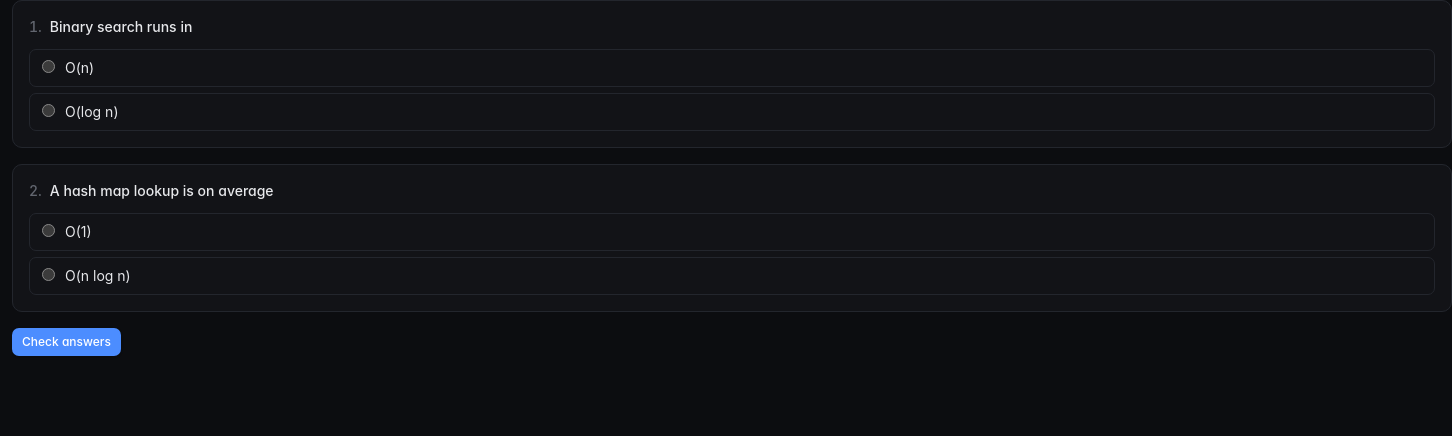
Test: Quiz › sends the selected options to the server and shows its grading
Click the radio button labelled "O(log n)" at (48, 110), box top-left (42, 104), bottom-right (55, 117)
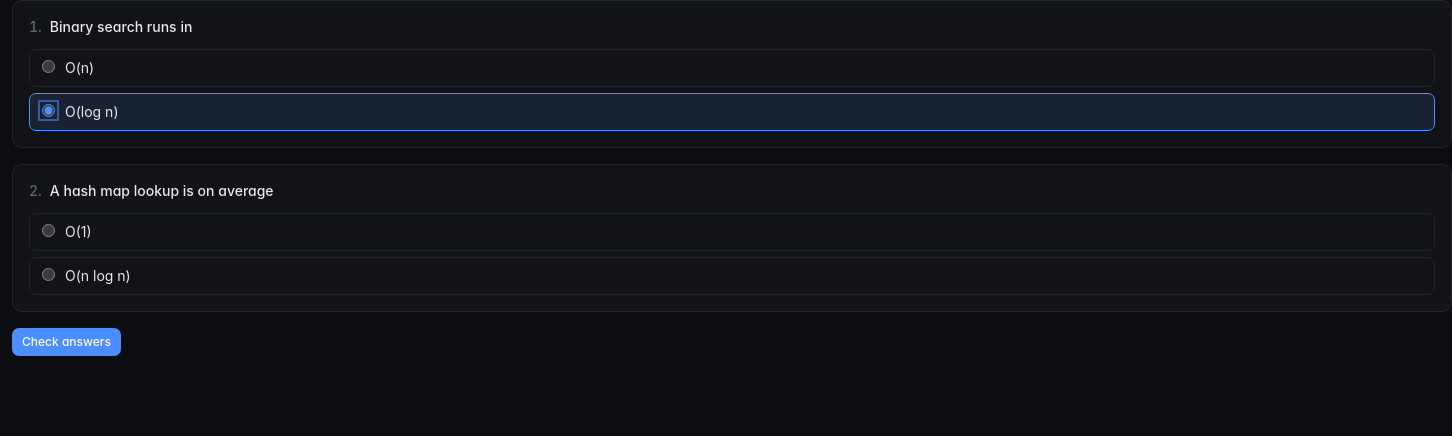
Click the radio button labelled "O(n log n)" at (48, 274), box top-left (42, 268), bottom-right (55, 281)
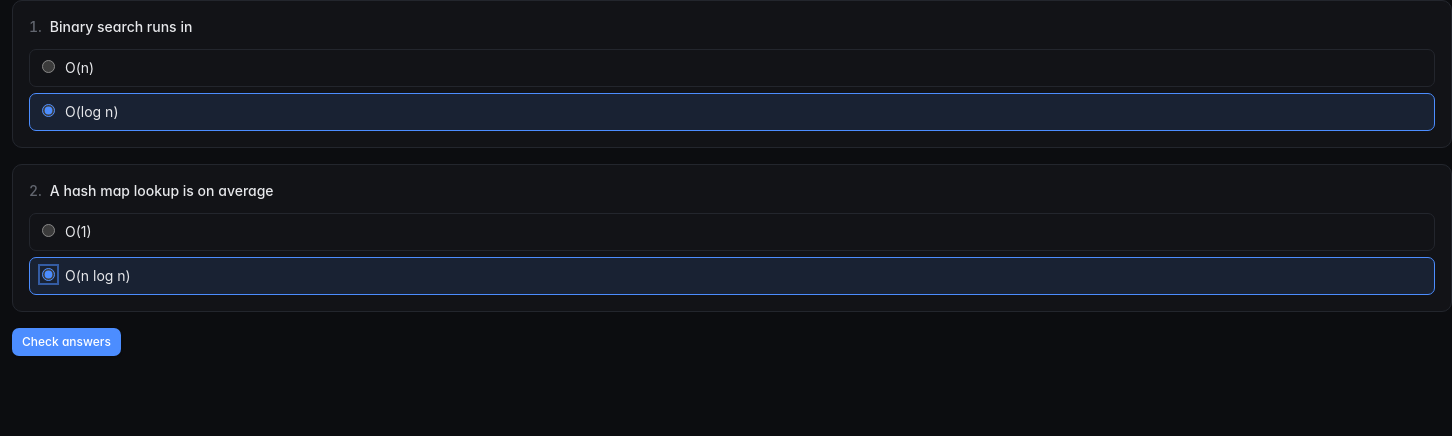
Click the button "Check answers" at (66, 342), box top-left (12, 328), bottom-right (121, 356)
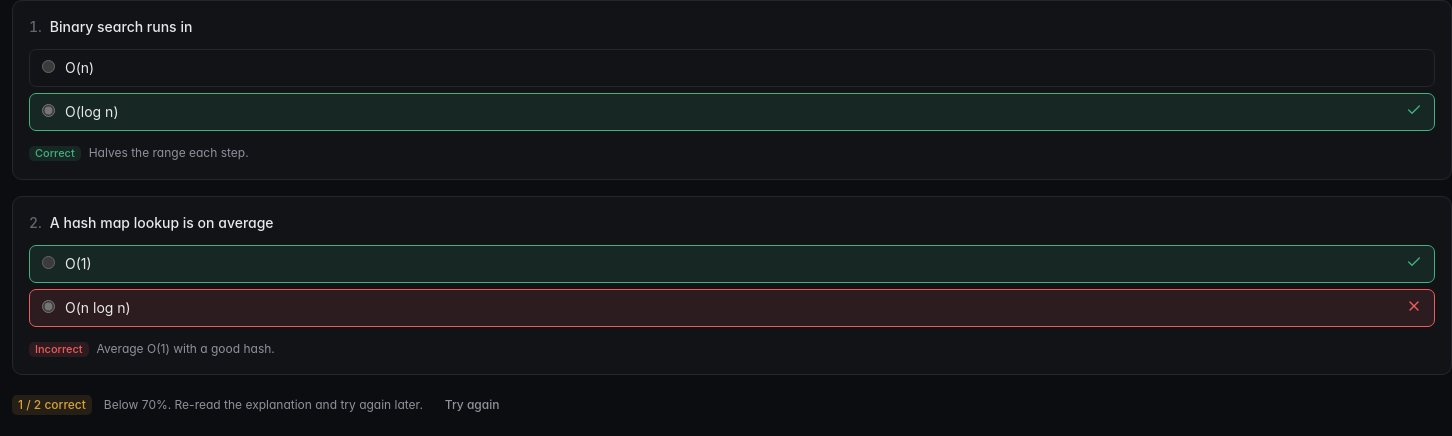
Expected: the text "1 / 2 correct" is shown, top-left (12, 395), bottom-right (92, 415)
Expected: the text "Below 70%. Re-read the explanation and try again later." is shown, top-left (104, 397), bottom-right (423, 413)
Expected: the text "Average O(1) with a good hash." is shown, top-left (97, 340), bottom-right (275, 356)
Click the button "Try again" at (472, 405), box top-left (435, 391), bottom-right (509, 419)
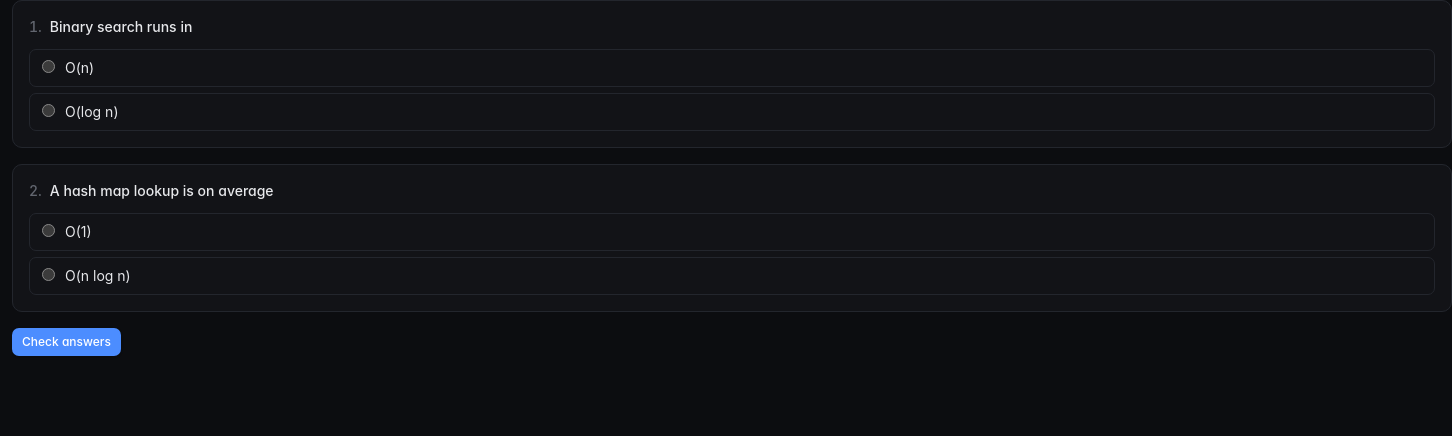
Expected: the radio button labelled "O(log n)" is not checked, top-left (42, 104), bottom-right (55, 117)
Expected: the radio button labelled "O(1)" is enabled, top-left (42, 224), bottom-right (55, 237)
